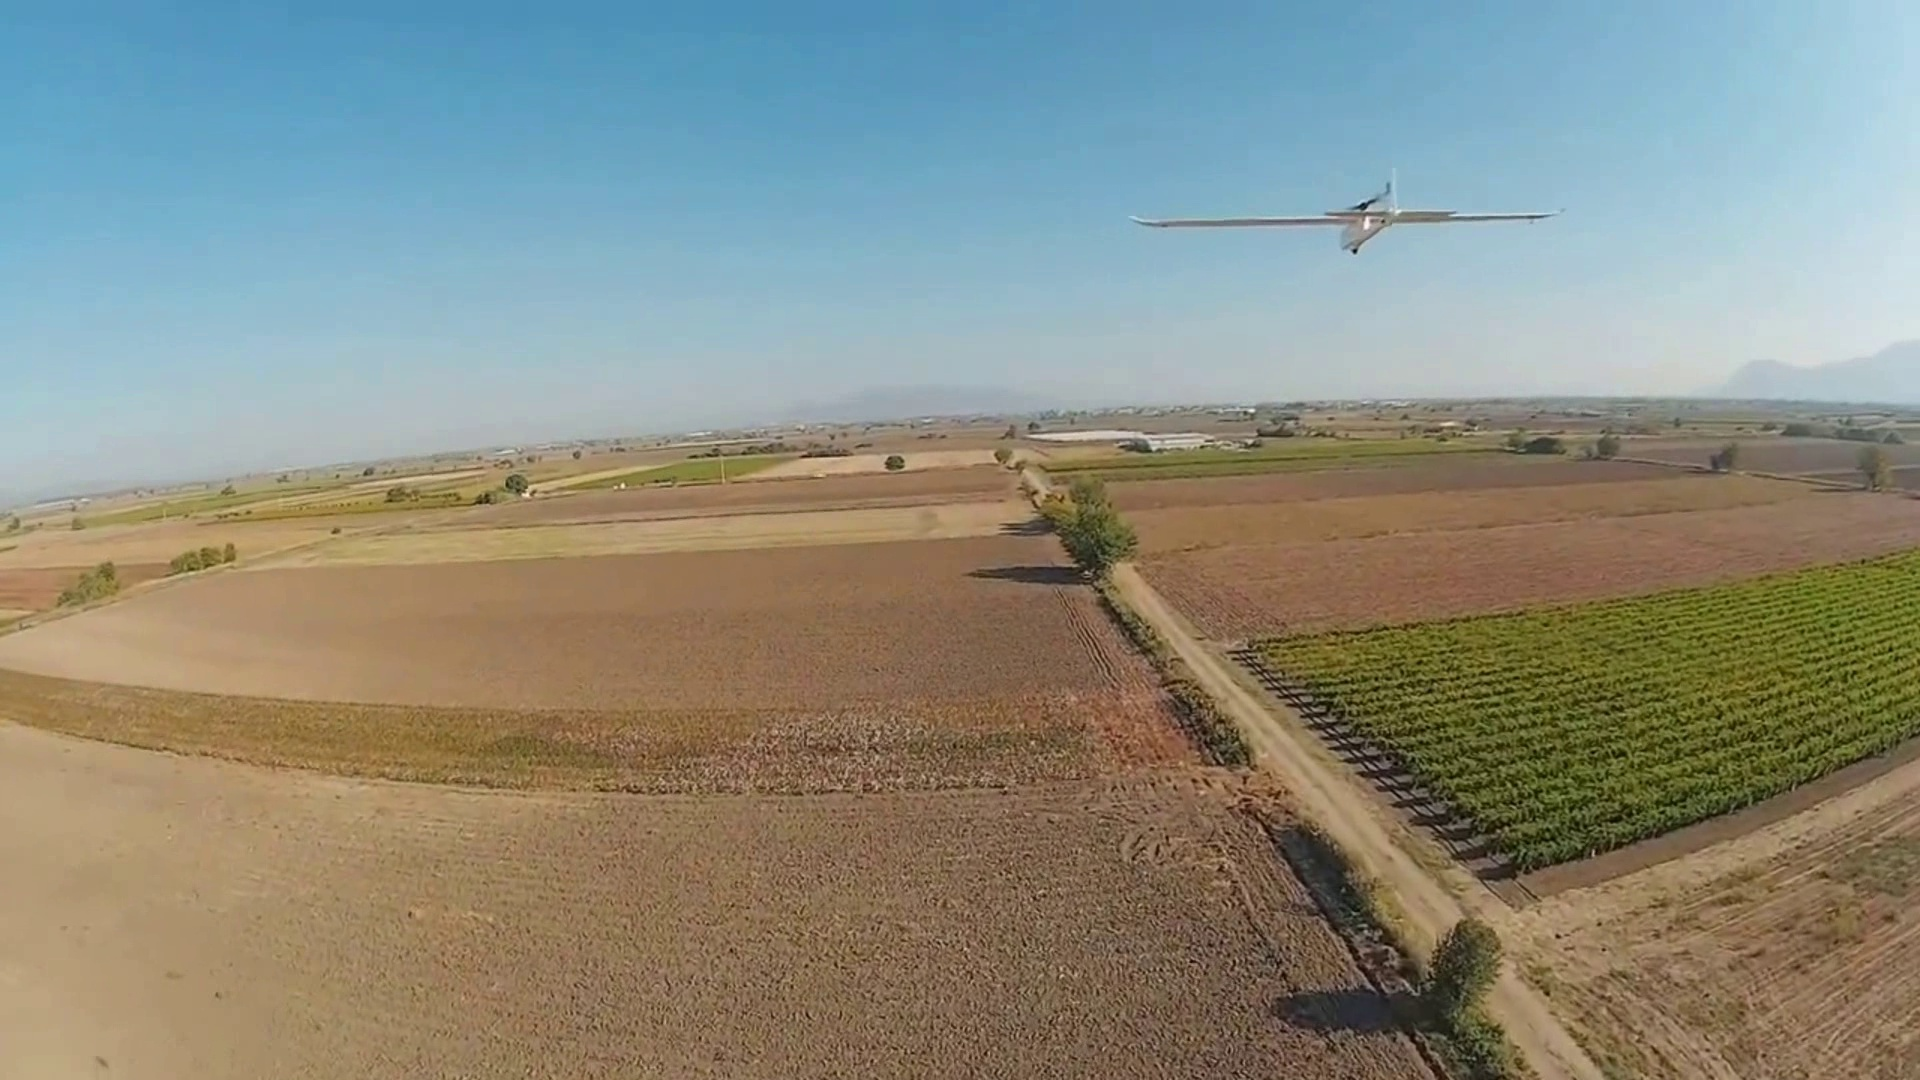airplane: (1129, 167, 1561, 255)
